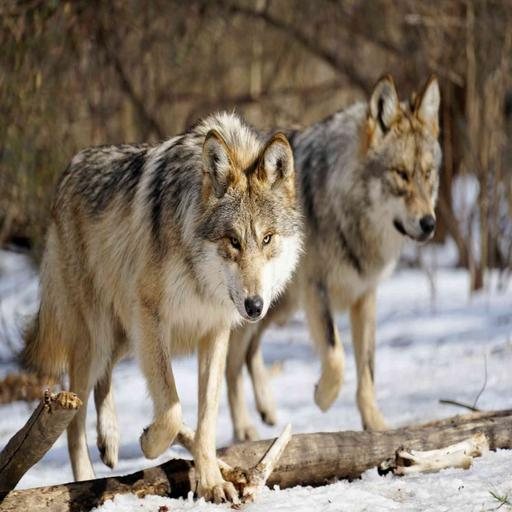Wolf: (0, 103, 312, 505), (146, 70, 446, 436)
